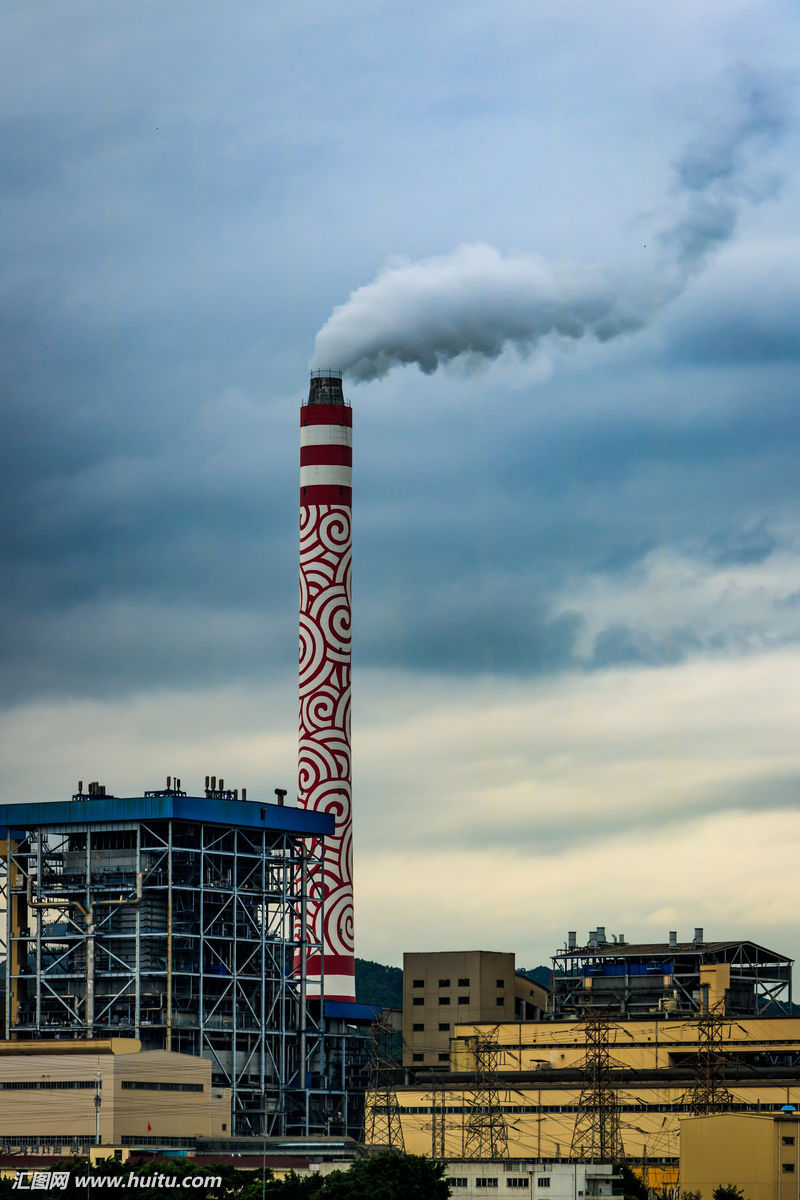dust: (274, 246, 615, 409)
